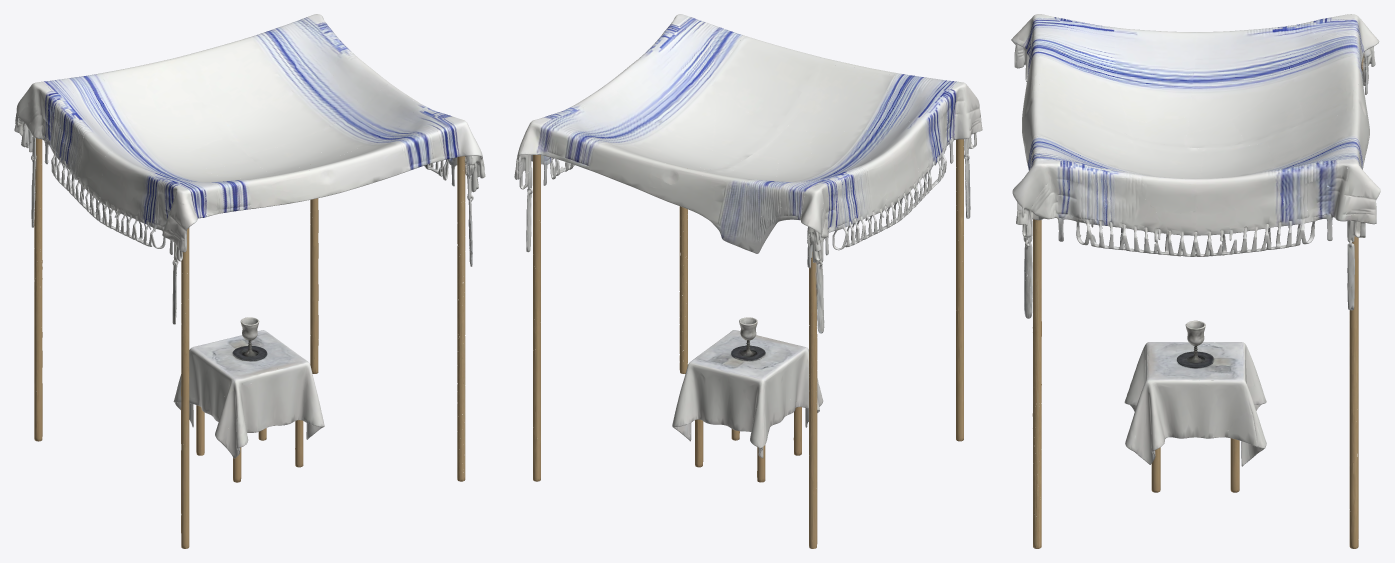
The model's file is chuppah.glb.
3 renders of one model, left to right at view 1: azimuth 30°, elevation 25°; view 2: azimuth 150°, elevation 25°; view 3: azimuth 270°, elevation 25°, orthographic. The views are drawn at different scales.
Parts seen in each view (by area): view 1: tripo_node_b4f3b0f2-0e73-40dd-b577-382ff1caefd7; view 2: tripo_node_b4f3b0f2-0e73-40dd-b577-382ff1caefd7; view 3: tripo_node_b4f3b0f2-0e73-40dd-b577-382ff1caefd7.
Part boxes in pixels (x1,y1,x2,y2): tripo_node_b4f3b0f2-0e73-40dd-b577-382ff1caefd7: (14, 14, 485, 548); tripo_node_b4f3b0f2-0e73-40dd-b577-382ff1caefd7: (514, 14, 982, 548); tripo_node_b4f3b0f2-0e73-40dd-b577-382ff1caefd7: (1011, 14, 1380, 548).
Size of the model in its own units: 0.8848 by 0.9789 by 0.8495.
Materials: 1 (1 with a texture image).
